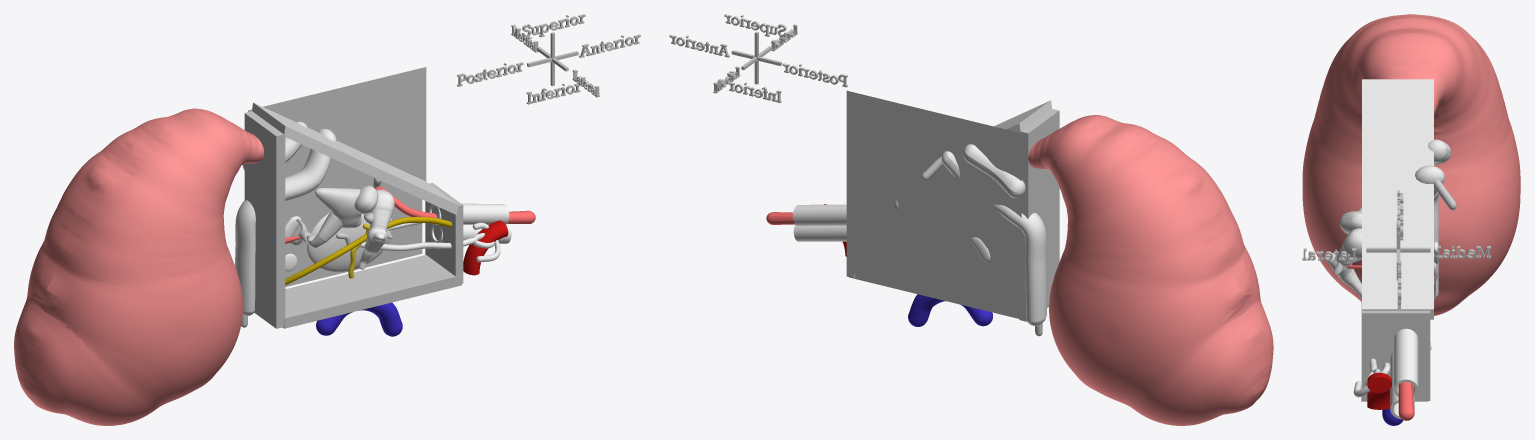
File: Middle ear 1.fbx
3 views of the same model, side by side, from view 1: azimuth 30°, elevation 25°; view 2: azimuth 150°, elevation 25°; view 3: azimuth 270°, elevation 25° (orthographic). The views are drawn at different scales.
Visible parts, largest first — view 1: mesh_id742___pink, mesh_id76, mesh_id45, mesh_id57, mesh_id35, mesh_id190, mesh_id78, mesh_id51, mesh_id173, mesh_id226___white, mesh_id266___white, mesh_id489__blue (+7 smaller); view 2: mesh_id742___pink, mesh_id76, mesh_id78, mesh_id45, mesh_id190, mesh_id138, mesh_id184, mesh_id489__blue, mesh_id105, mesh_id57, mesh_id35; view 3: mesh_id742___pink, mesh_id35, mesh_id51, mesh_id138, mesh_id226___white, mesh_id433, mesh_id190, mesh_id338___red, mesh_id903, mesh_id911, mesh_id184, mesh_id269___white (+5 smaller).
Boxes of the visible parts, bbox=[...] form: mesh_id742___pink: bbox=[14, 108, 263, 425]; mesh_id76: bbox=[248, 67, 426, 223]; mesh_id45: bbox=[244, 111, 285, 328]; mesh_id57: bbox=[282, 255, 461, 328]; mesh_id35: bbox=[252, 102, 458, 214]; mesh_id190: bbox=[235, 128, 336, 316]; mesh_id78: bbox=[285, 195, 422, 286]; mesh_id51: bbox=[425, 183, 463, 283]; mesh_id173: bbox=[307, 212, 392, 272]; mesh_id226___white: bbox=[359, 189, 394, 269]; mesh_id266___white: bbox=[315, 188, 361, 228]; mesh_id489__blue: bbox=[316, 302, 402, 336]; mesh_id742___pink: bbox=[1028, 115, 1273, 425]; mesh_id76: bbox=[846, 90, 1021, 256]; mesh_id78: bbox=[851, 215, 1021, 314]; mesh_id45: bbox=[1019, 108, 1059, 321]; mesh_id190: bbox=[941, 151, 1046, 325]; mesh_id138: bbox=[793, 204, 846, 225]; mesh_id184: bbox=[963, 144, 1025, 197]; mesh_id489__blue: bbox=[908, 294, 992, 326]; mesh_id105: bbox=[793, 225, 846, 241]; mesh_id57: bbox=[849, 274, 1019, 318]; mesh_id35: bbox=[994, 100, 1051, 132]; mesh_id742___pink: bbox=[1302, 14, 1520, 315]; mesh_id35: bbox=[1362, 79, 1433, 319]; mesh_id51: bbox=[1362, 310, 1430, 400]; mesh_id138: bbox=[1394, 328, 1418, 396]; mesh_id226___white: bbox=[1326, 228, 1361, 303]; mesh_id433: bbox=[1367, 372, 1391, 409]; mesh_id190: bbox=[1415, 165, 1444, 299]; mesh_id338___red: bbox=[1347, 265, 1414, 420]; mesh_id903: bbox=[1436, 246, 1490, 258]; mesh_id911: bbox=[1302, 248, 1356, 260]; mesh_id184: bbox=[1428, 139, 1450, 165]; mesh_id269___white: bbox=[1339, 211, 1361, 233].
Bounding box in the file's own units: 22.07 × 10.17 × 6.13.
